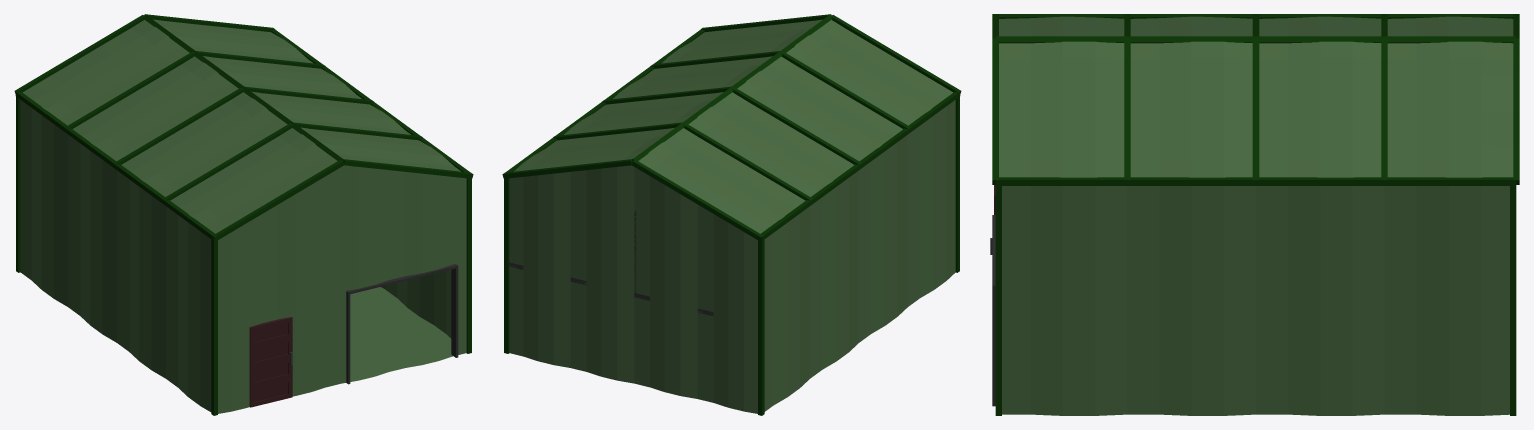
The model's file is warehouse.glb.
3 renders of one model, left to right at view 1: azimuth 30°, elevation 25°; view 2: azimuth 150°, elevation 25°; view 3: azimuth 270°, elevation 25°, orthographic. The views are drawn at different scales.
Parts seen in each view (by area): view 1: ExteriorMesh, DoorMain, Outline.004, GarageDoorOutline.001, Outline.006, Outline, Outline.007, Outline.001, Outline.005, Outline.008, Outline.009, Outline.016 (+7 smaller); view 2: ExteriorMesh, Outline.004, Outline.006, Outline.003, Outline.008, Outline.002, Outline.005, Outline.007, Outline.014, Outline.015, Outline.016, Outline.010 (+5 smaller); view 3: ExteriorMesh, Outline.005, Outline.006, Outline.004, Outline.001, Outline.002, Outline.011, Outline.009, Outline.010, Outline.012, Outline.013, GarageDoorOutline.001.
Boxes of the visible parts, left/top/right/bottom form: ExteriorMesh: left=20, top=19, right=466, bottom=413; DoorMain: left=249, top=317, right=292, bottom=407; Outline.004: left=15, top=92, right=214, bottom=240; GarageDoorOutline.001: left=346, top=264, right=458, bottom=384; Outline.006: left=143, top=14, right=343, bottom=161; Outline: left=211, top=239, right=217, bottom=415; Outline.007: left=212, top=160, right=344, bottom=241; Outline.001: left=466, top=178, right=471, bottom=353; Outline.005: left=271, top=29, right=470, bottom=178; Outline.008: left=14, top=15, right=144, bottom=93; Outline.009: left=343, top=159, right=473, bottom=178; Outline.016: left=162, top=123, right=292, bottom=200; ExteriorMesh: left=509, top=19, right=955, bottom=413; Outline.004: left=761, top=92, right=960, bottom=240; Outline.006: left=632, top=14, right=832, bottom=161; Outline.003: left=758, top=239, right=764, bottom=415; Outline.008: left=631, top=160, right=763, bottom=241; Outline.002: left=504, top=178, right=509, bottom=353; Outline.005: left=505, top=29, right=704, bottom=172; Outline.007: left=831, top=15, right=961, bottom=93; Outline.014: left=683, top=123, right=813, bottom=200; Outline.015: left=732, top=87, right=862, bottom=165; Outline.016: left=781, top=51, right=911, bottom=129; Outline.010: left=502, top=159, right=632, bottom=178; ExteriorMesh: left=999, top=16, right=1513, bottom=415; Outline.005: left=995, top=177, right=1516, bottom=185; Outline.006: left=995, top=36, right=1516, bottom=43; Outline.004: left=999, top=14, right=1513, bottom=18; Outline.001: left=995, top=186, right=1001, bottom=415; Outline.002: left=1510, top=186, right=1516, bottom=415; Outline.011: left=1252, top=39, right=1259, bottom=180; Outline.009: left=992, top=38, right=998, bottom=184; Outline.010: left=1513, top=38, right=1519, bottom=184; Outline.012: left=1381, top=39, right=1387, bottom=180; Outline.013: left=1124, top=39, right=1130, bottom=180; GarageDoorOutline.001: left=992, top=215, right=995, bottom=406.
Bounding box in the file's own units: 12.23 × 10.19 × 16.46.
